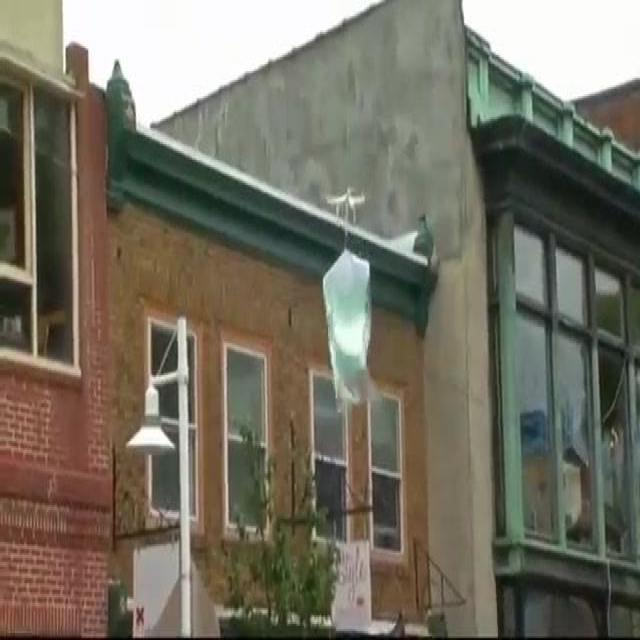UAV: (325, 185, 366, 224)
